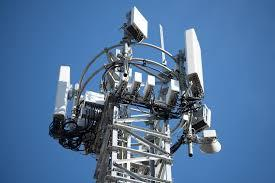Microwave Antenna: (195, 142, 232, 156)
antenna: (182, 29, 210, 96), (53, 61, 75, 120), (129, 0, 149, 39)
